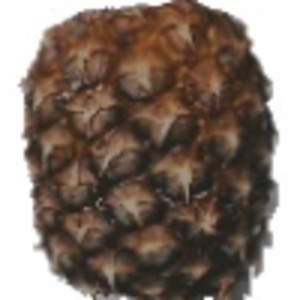abacaxi: (16, 2, 281, 295)
